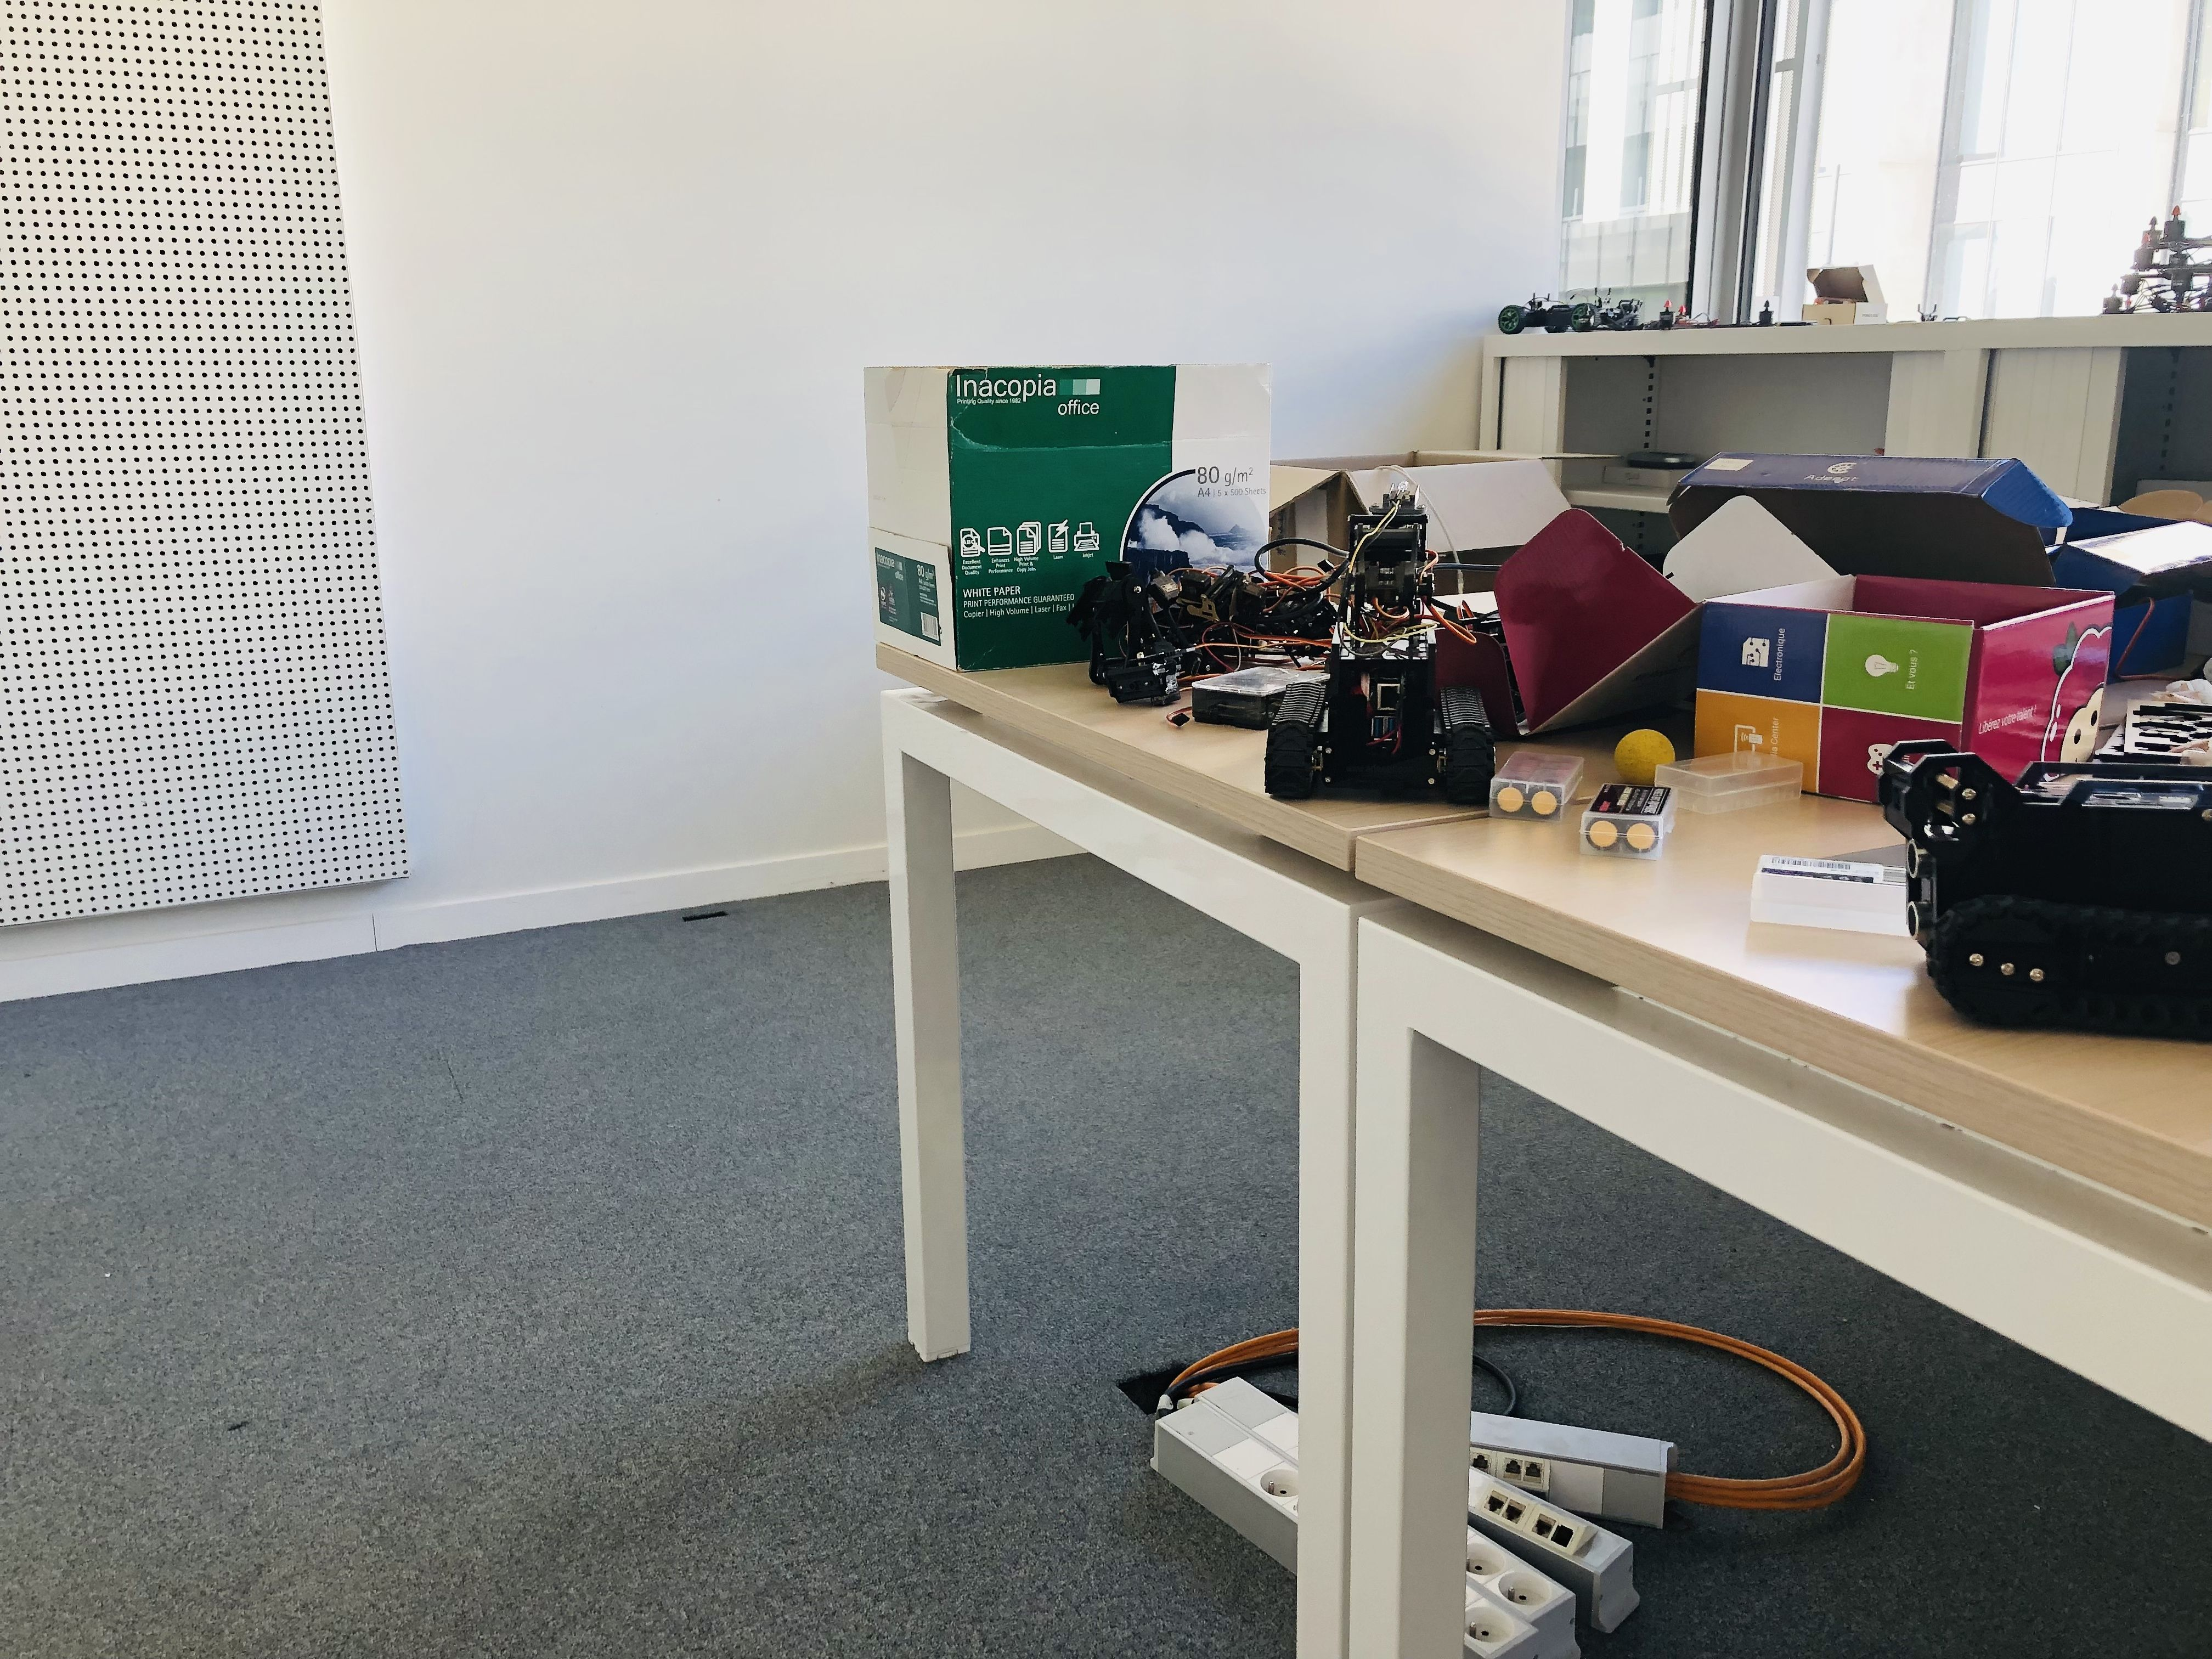rasptank: (1263, 483, 1500, 805)
